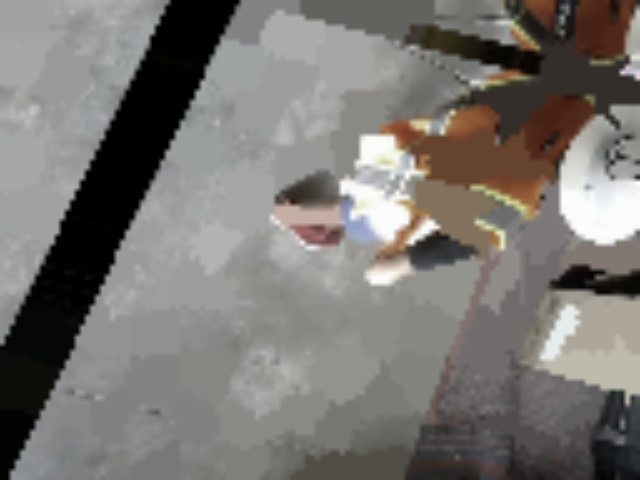one: (595, 128, 639, 186)
